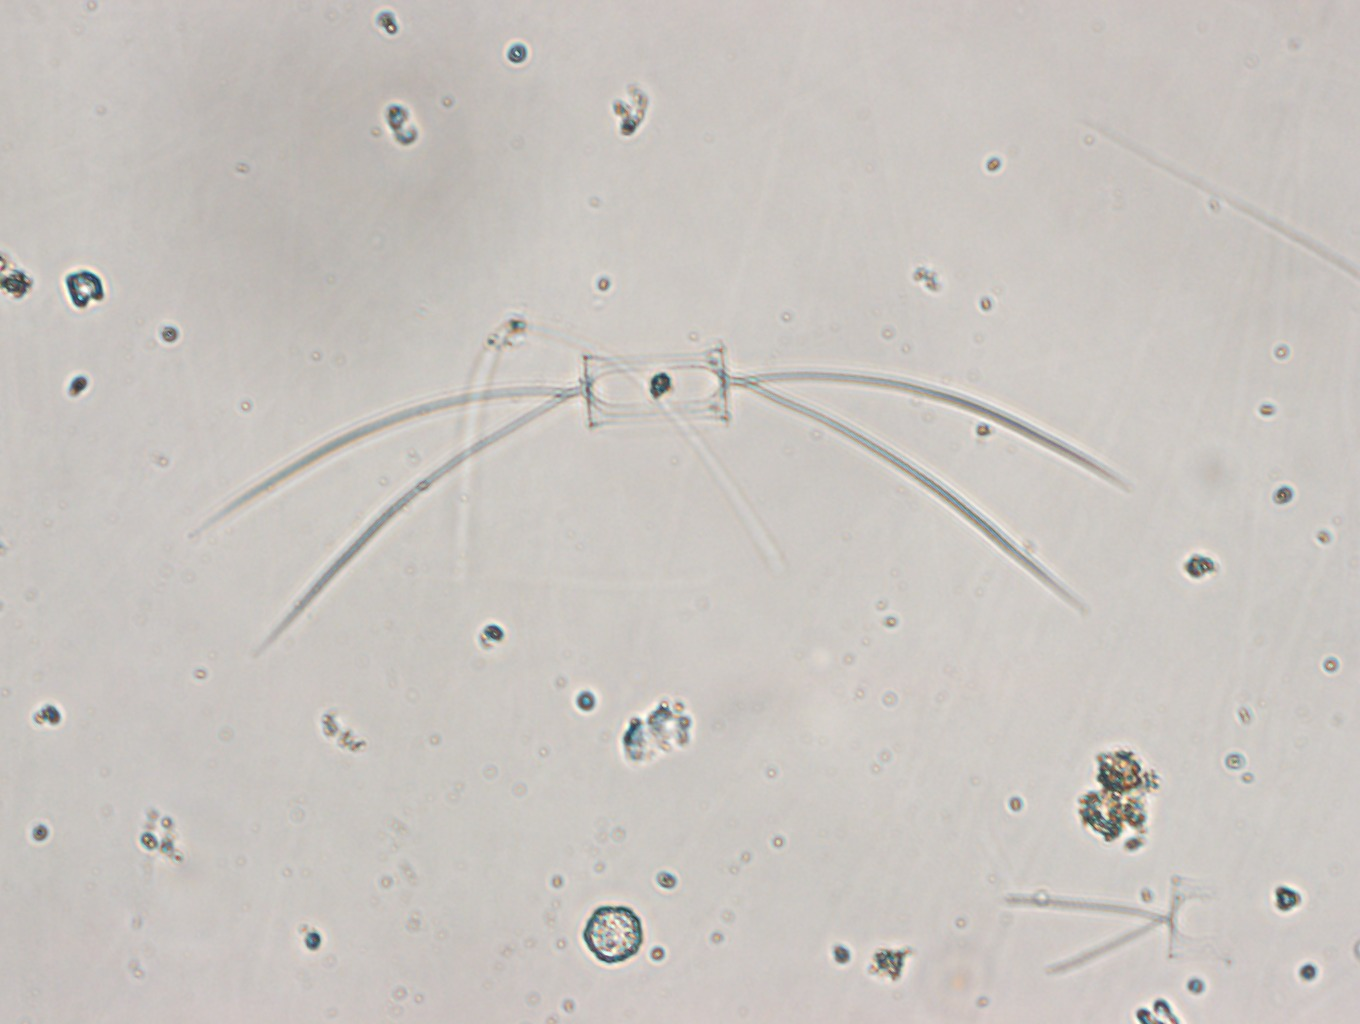chaetoceros: (206, 335, 1131, 658)
